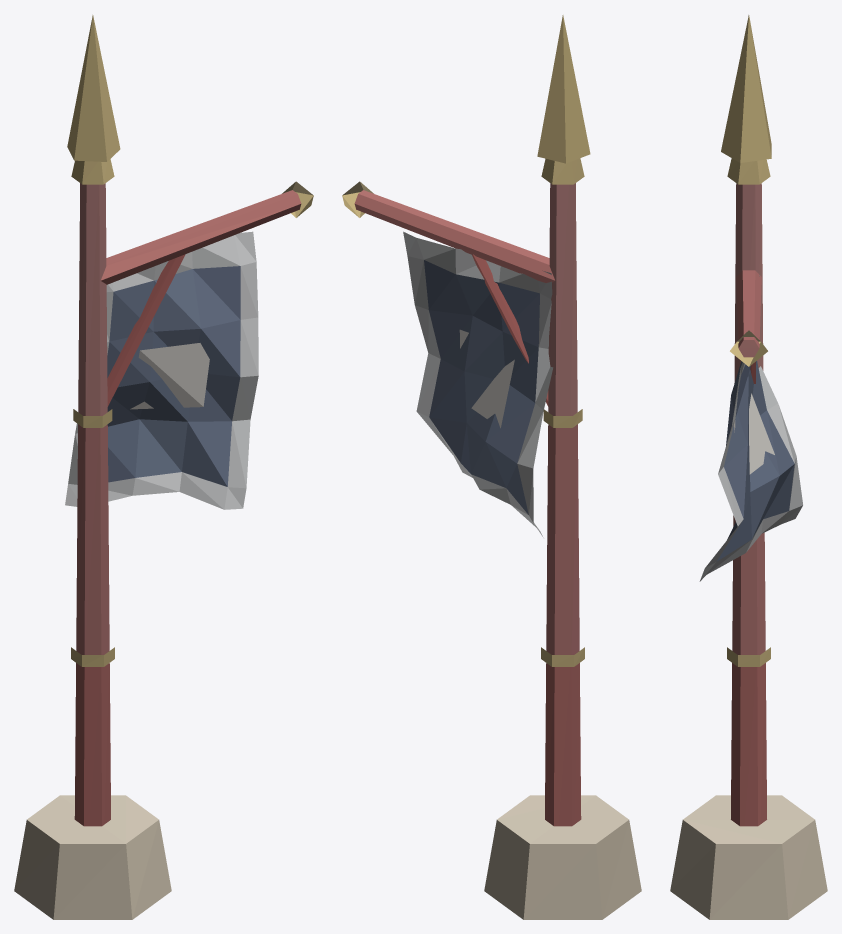
File: flag.notched.dianqi__pole.ground.miaogan__armHang.glb
3 views of the same model, side by side, from view 1: azimuth 30°, elevation 25°; view 2: azimuth 150°, elevation 25°; view 3: azimuth 270°, elevation 25° (orthographic).
Visible parts, largest first — view 1: flag.notched.dianqi; view 2: flag.notched.dianqi; view 3: flag.notched.dianqi.
Part boxes in pixels (x1,y1,x2,y2): flag.notched.dianqi: (14, 15, 313, 919); flag.notched.dianqi: (342, 15, 641, 919); flag.notched.dianqi: (670, 15, 827, 919).
Size of the model in its own units: 1.72 by 5.16 by 0.84.
